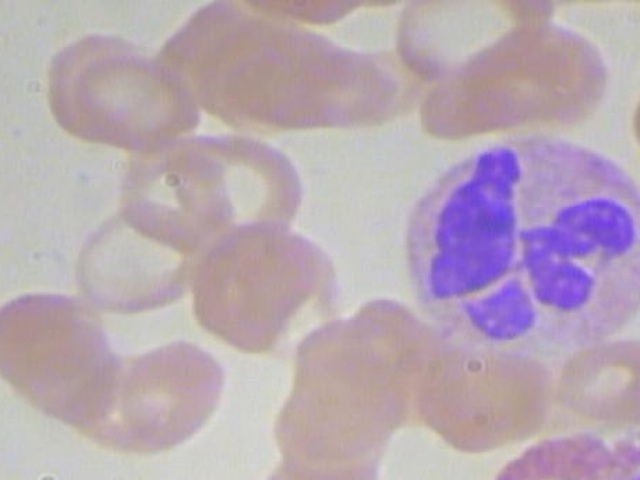RBC: (173, 210, 337, 363), (61, 195, 214, 318), (404, 339, 564, 456), (381, 0, 555, 96), (102, 333, 242, 451), (70, 44, 214, 150), (549, 329, 640, 428)
WBC: (382, 126, 640, 355), (463, 429, 640, 480)
